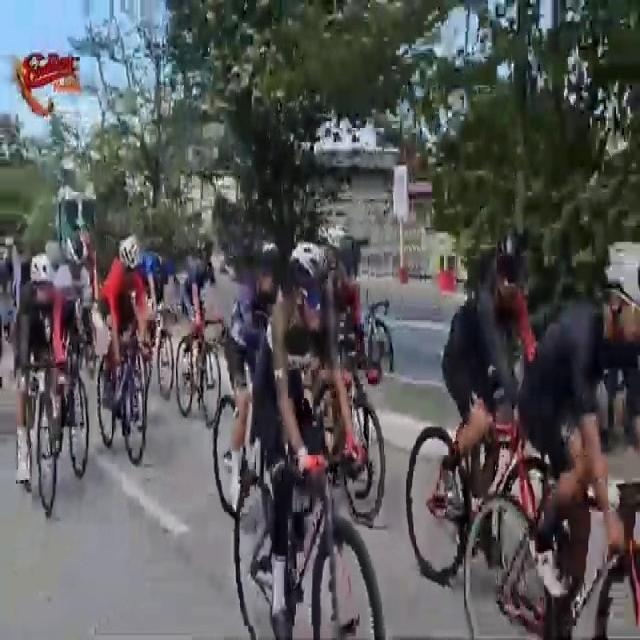bike: (470, 263, 640, 640), (400, 247, 568, 620), (232, 248, 388, 640), (290, 243, 388, 522), (214, 239, 292, 516), (10, 250, 60, 524), (96, 232, 149, 473), (50, 234, 97, 495), (175, 246, 222, 434), (141, 246, 174, 406)
